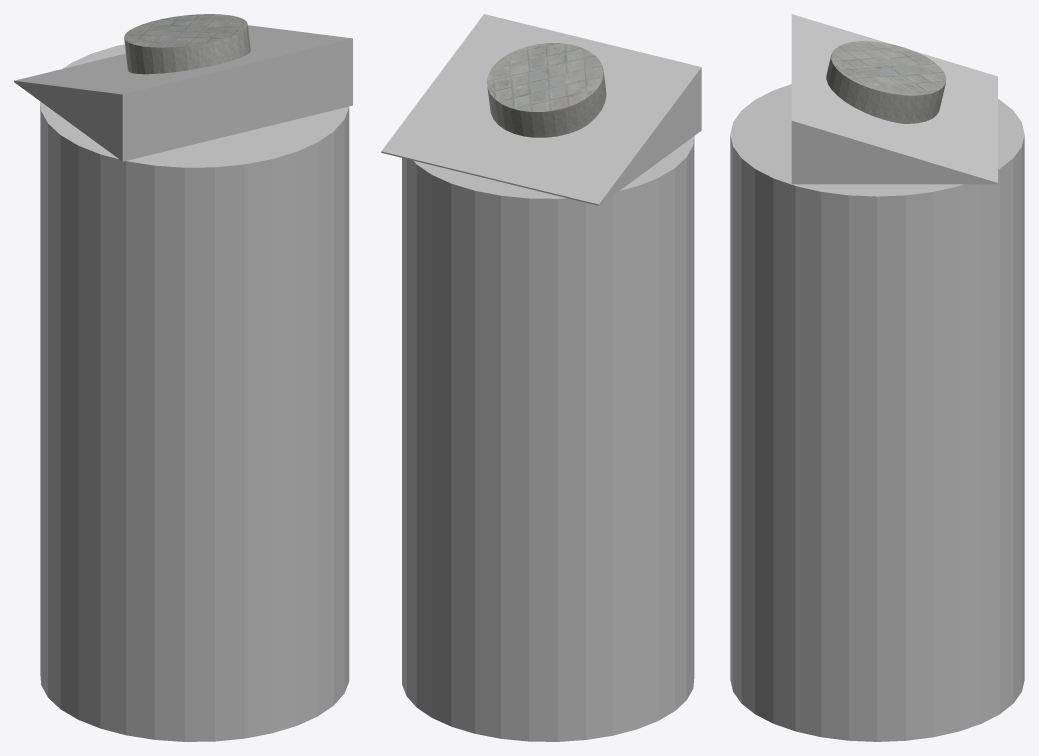
File: Podest.obj
The picture shows the model from 3 angles, left to right: view 1: azimuth 30°, elevation 25°; view 2: azimuth 150°, elevation 25°; view 3: azimuth 270°, elevation 25°; orthographic projection. The views are drawn at different scales.
Parts seen in each view (by area): view 1: Cylinder; view 2: Cylinder; view 3: Cylinder.
Part boxes in pixels (x1=…): Cylinder: x1=14, y1=14, x2=352, y2=741; Cylinder: x1=381, y1=14, x2=701, y2=741; Cylinder: x1=730, y1=14, x2=1024, y2=741.
Size of the model in its own units: 0.4832 by 1.13 by 0.4832.
